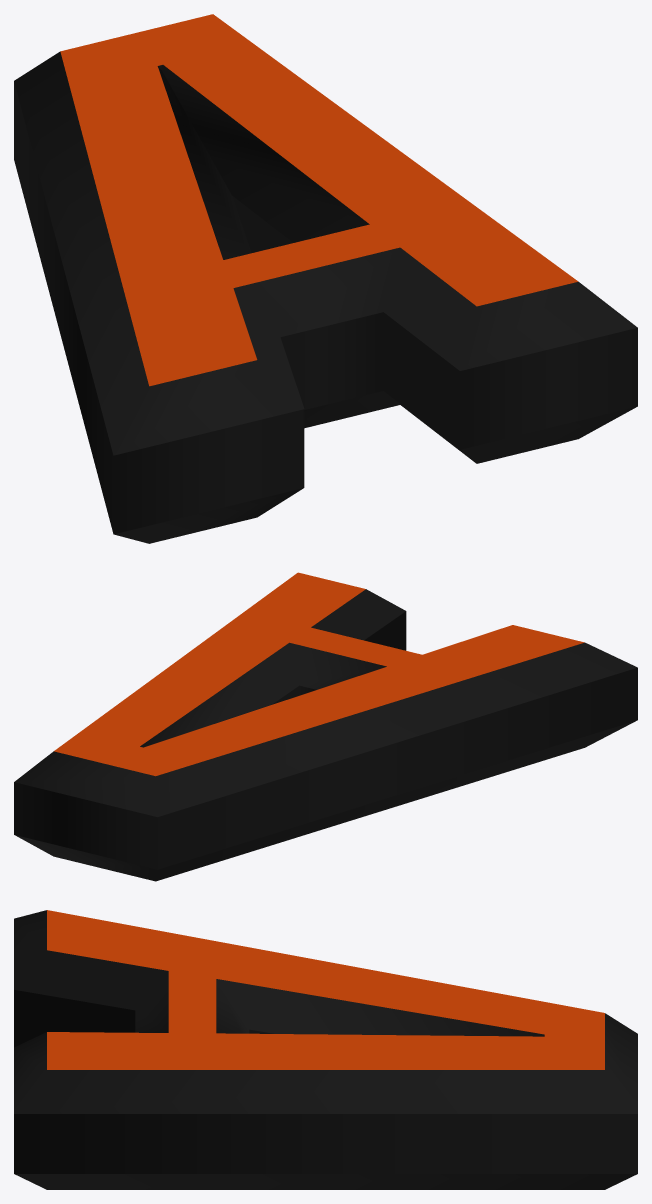
3 renders of one model, top to bottom at view 1: azimuth 30°, elevation 25°; view 2: azimuth 150°, elevation 25°; view 3: azimuth 270°, elevation 25°, orthographic. The views are drawn at different scales.
Parts seen in each view (by area): view 1: Text; view 2: Text; view 3: Text.
Boxes of the visible parts, x1,y1,x2,y2 form: Text: (14,14,637,543); Text: (14,572,637,881); Text: (14,910,637,1189).
Bounding box in the file's own units: 0.5578 × 0.16 × 0.7533.
